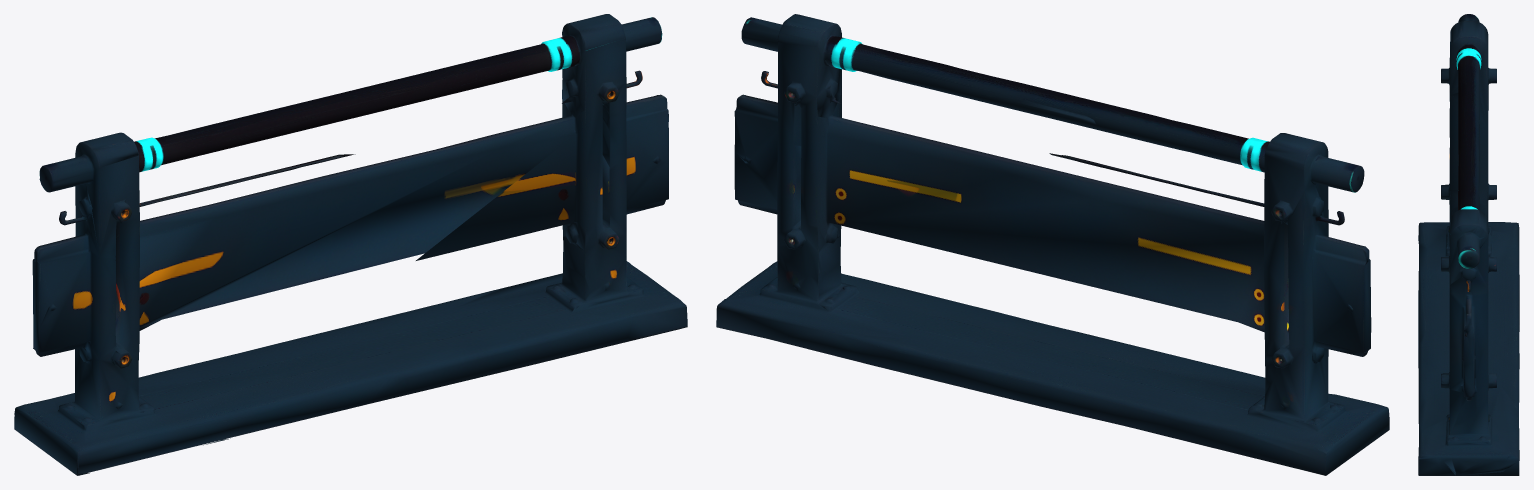
The picture shows the model from 3 angles, left to right: view 1: azimuth 30°, elevation 25°; view 2: azimuth 150°, elevation 25°; view 3: azimuth 270°, elevation 25°; orthographic projection. The views are drawn at different scales.
Size of the model in its own units: 1.9 by 0.857 by 0.3335.
1 material, 1 textured.
